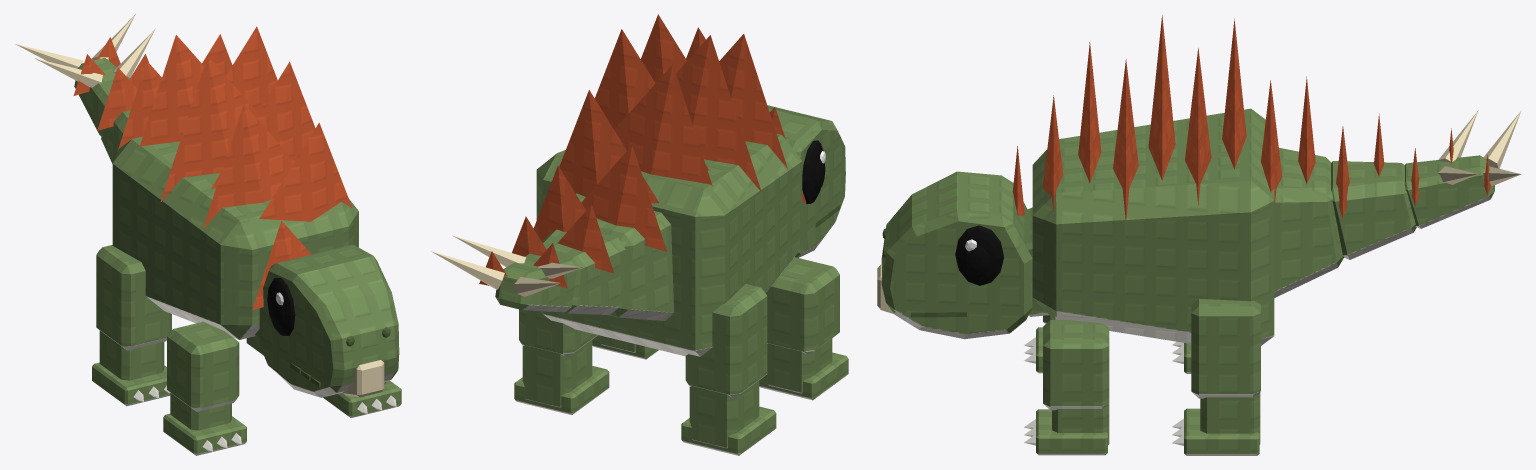
Rendered from bebe_10_Stegosaurus.glb.
The picture shows the model from 3 angles, left to right: view 1: azimuth 30°, elevation 25°; view 2: azimuth 150°, elevation 25°; view 3: azimuth 270°, elevation 25°; orthographic projection. The views are drawn at different scales.
Visible parts, largest first — view 1: bebe_10_Stegosaurus; view 2: bebe_10_Stegosaurus; view 3: bebe_10_Stegosaurus.
Part boxes in pixels (bbox=[...]): bebe_10_Stegosaurus: bbox=[15, 14, 401, 455]; bebe_10_Stegosaurus: bbox=[431, 14, 848, 455]; bebe_10_Stegosaurus: bbox=[877, 15, 1521, 455].
Size of the model in its own units: 1.68 by 2.62 by 4.12.
Materials: 1 (1 with a texture image).
